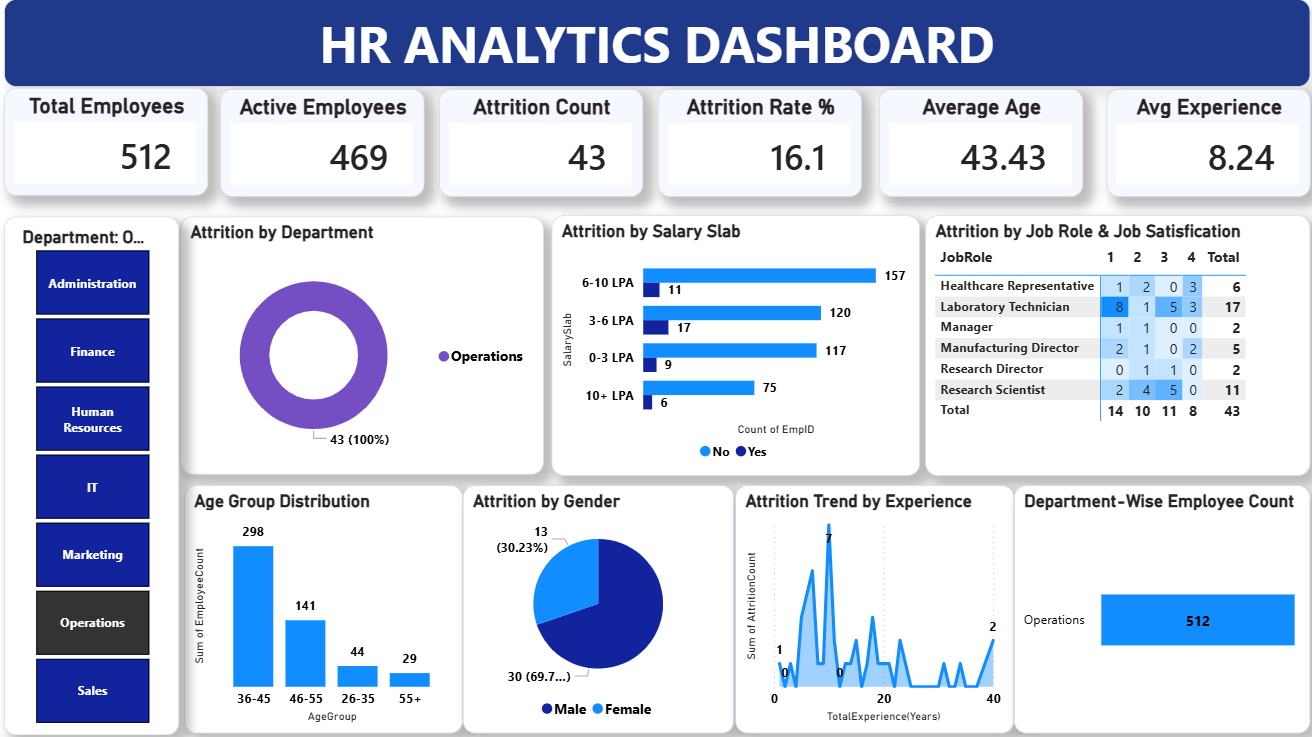

The page's visual inventory and layout, read from the dashboard file:
{"tool":"powerbi","page":{"name":"Page 1","canvas":[1280,720],"ordinal":0},"visuals":[{"type":"textbox","box":[10,0,1259,85],"z":0},{"type":"cardVisual","title":"Total Employees","fields":{"Data":["CountNonNull(HR_Analytics-4.EmpID)"]},"box":[9.8,85.6,196.9,103.9],"z":1000},{"type":"cardVisual","title":"Active Employees","fields":{"Data":["CountNonNull(HR_Analytics-4.EmployeeCount)"]},"box":[217.7,86.8,196.9,103.9],"z":2000},{"type":"cardVisual","title":"Attrition Count","fields":{"Data":["Sum(HR_Analytics-4.AttritionCount)"]},"box":[429.2,86.8,196.9,103.9],"z":3000},{"type":"cardVisual","title":"Attrition Rate %","fields":{"Data":["HR_Analytics-4.Attrition Rate %"]},"box":[639.5,86.8,196.9,103.9],"z":4000},{"type":"cardVisual","title":"Average Age","fields":{"Data":["Avg(HR_Analytics-4.Age)"]},"box":[853.5,86.8,196.9,103.9],"z":5000},{"type":"cardVisual","title":"Avg Experience","fields":{"Data":["Avg(HR_Analytics-4.YearsatCompany)"]},"box":[1072.4,86.8,196.9,103.9],"z":6000},{"type":"donutChart","title":"Attrition by Department","fields":{"Category":["HR_Analytics-4.Department"],"Y":["Sum(HR_Analytics-4.AttritionCount)"]},"box":[179,210,350,249],"z":7000},{"type":"clusteredBarChart","title":"Attrition by Salary Slab","fields":{"Category":["HR_Analytics-4.SalarySlab"],"Y":["CountNonNull(HR_Analytics-4.EmpID)"],"Series":["HR_Analytics-4.Attrition"]},"box":[537,209,355,251],"z":8000},{"type":"pivotTable","title":"Attrition by Job Role & Job Satisfication","fields":{"Rows":["HR_Analytics-4.JobRole"],"Values":["Sum(HR_Analytics-4.AttritionCount)"],"Columns":["HR_Analytics-4.JobSatisfaction"]},"box":[898,209,371,251],"z":9000},{"type":"columnChart","title":"Age Group Distribution","fields":{"Category":["HR_Analytics-4.AgeGroup"],"Y":["Sum(HR_Analytics-4.EmployeeCount)"]},"box":[183.1,469,269,239.4],"z":10000},{"type":"pieChart","title":"Attrition by Gender","fields":{"Category":["HR_Analytics-4.Gender"],"Y":["Sum(HR_Analytics-4.AttritionCount)"]},"box":[452.1,469,262,239.4],"z":11000},{"type":"areaChart","title":"Attrition Trend by Experience","fields":{"Category":["HR_Analytics-4.TotalExperience(Years)"],"Y":["Sum(HR_Analytics-4.AttritionCount)"]},"box":[714.1,469,269,239.4],"z":12000},{"type":"funnel","title":"Department-Wise Employee Count","fields":{"Category":["HR_Analytics-4.Department"],"Y":["CountNonNull(HR_Analytics-4.EmpID)"]},"box":[983.1,469,285.9,239.4],"z":13000},{"type":"slicer","fields":{"Values":["HR_Analytics-4.Department"]},"box":[9.6,209.6,168.7,500],"z":14000}]}

Visuals, with their boxes in screenshot pixels (x1, y1, x2, y2), scaled from the page's 1280x720 canvas onto the 1312x737 screenshot:
textbox: bbox=(10, 0, 1301, 87)
"Total Employees" cardVisual: bbox=(10, 88, 212, 194)
"Active Employees" cardVisual: bbox=(223, 89, 425, 195)
"Attrition Count" cardVisual: bbox=(440, 89, 642, 195)
"Attrition Rate %" cardVisual: bbox=(655, 89, 857, 195)
"Average Age" cardVisual: bbox=(875, 89, 1077, 195)
"Avg Experience" cardVisual: bbox=(1099, 89, 1301, 195)
"Attrition by Department" donutChart: bbox=(183, 215, 542, 470)
"Attrition by Salary Slab" clusteredBarChart: bbox=(550, 214, 914, 471)
"Attrition by Job Role & Job Satisfication" pivotTable: bbox=(920, 214, 1301, 471)
"Age Group Distribution" columnChart: bbox=(188, 480, 463, 725)
"Attrition by Gender" pieChart: bbox=(463, 480, 732, 725)
"Attrition Trend by Experience" areaChart: bbox=(732, 480, 1008, 725)
"Department-Wise Employee Count" funnel: bbox=(1008, 480, 1301, 725)
slicer - HR_Analytics-4.Department: bbox=(10, 215, 183, 726)
